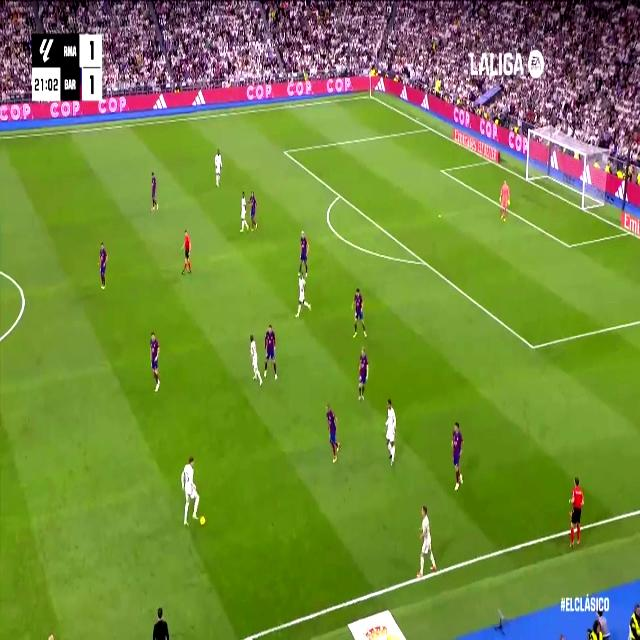bigarea_bottom_inner: (528, 335, 538, 357)
bigarea_top_inner: (282, 144, 288, 158)
bigarea_top_outter: (426, 120, 434, 134)
bottom_arc_area_intersection: (419, 253, 429, 271)
corner: (366, 89, 374, 101)
smallarea_bottom_inner: (565, 237, 573, 255)
smallarea_top_inner: (439, 164, 445, 176)
top_arc_area_intersection: (336, 187, 343, 202)
